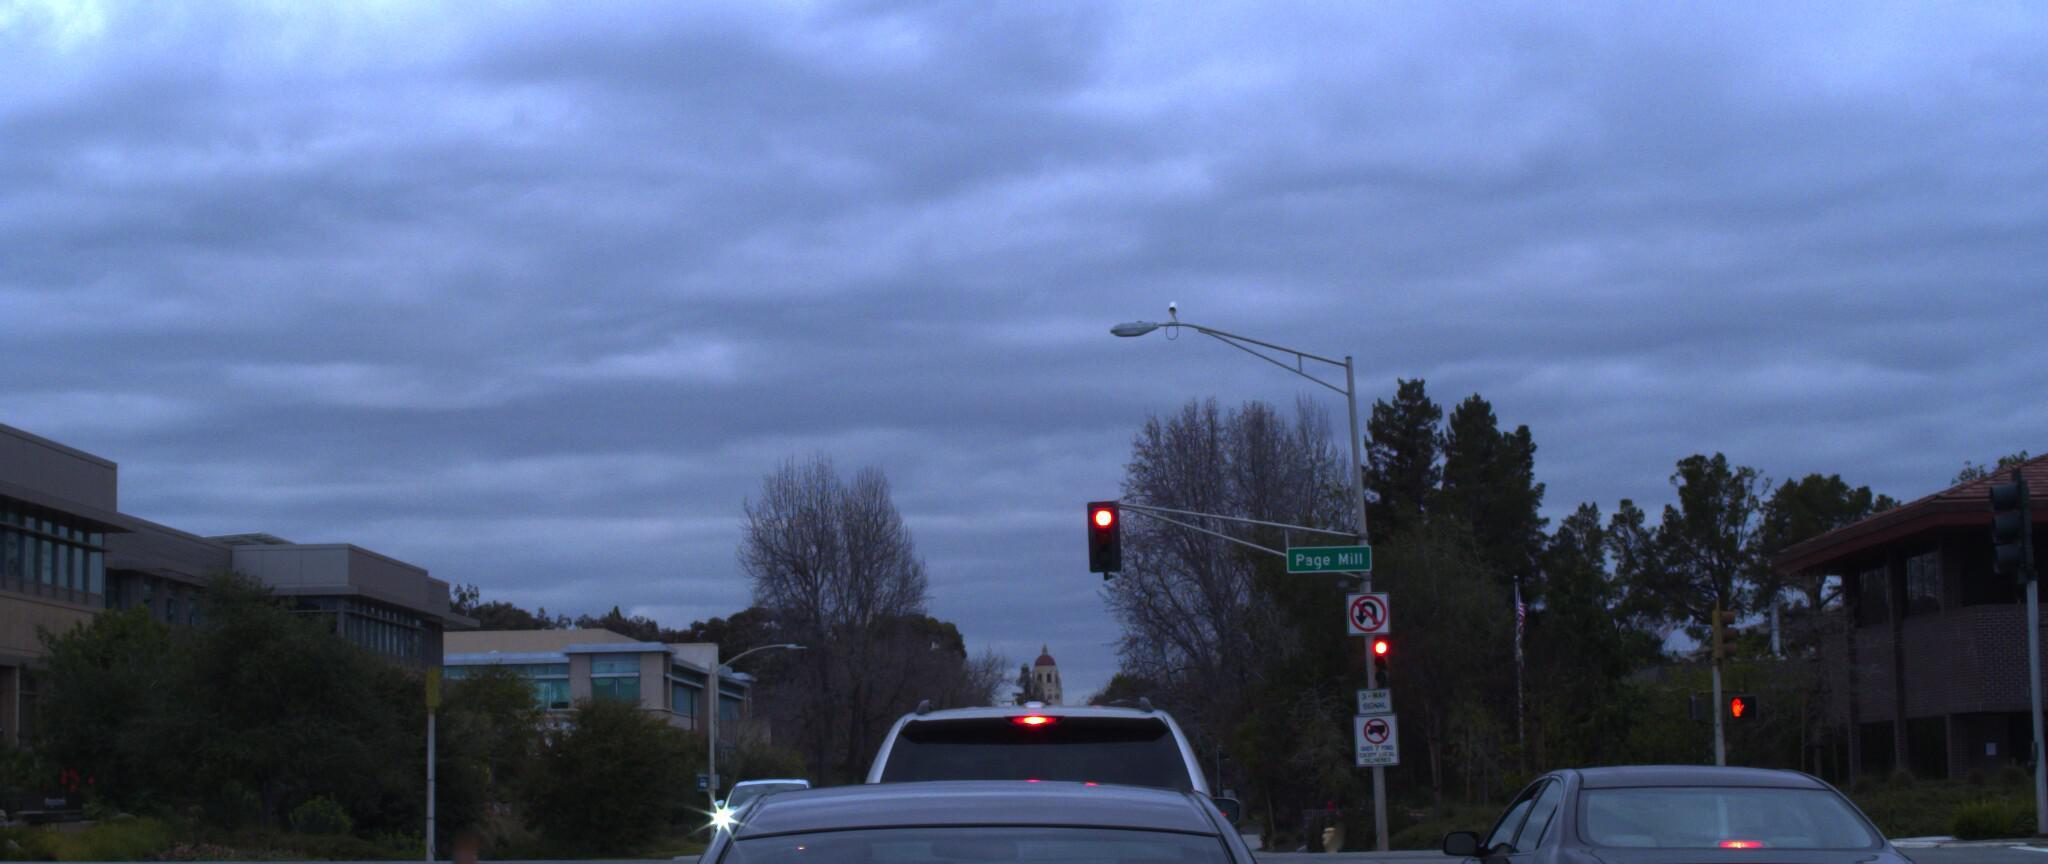car: (562, 719, 1398, 864), (818, 681, 1300, 864), (1412, 743, 2011, 864), (691, 773, 835, 864)
